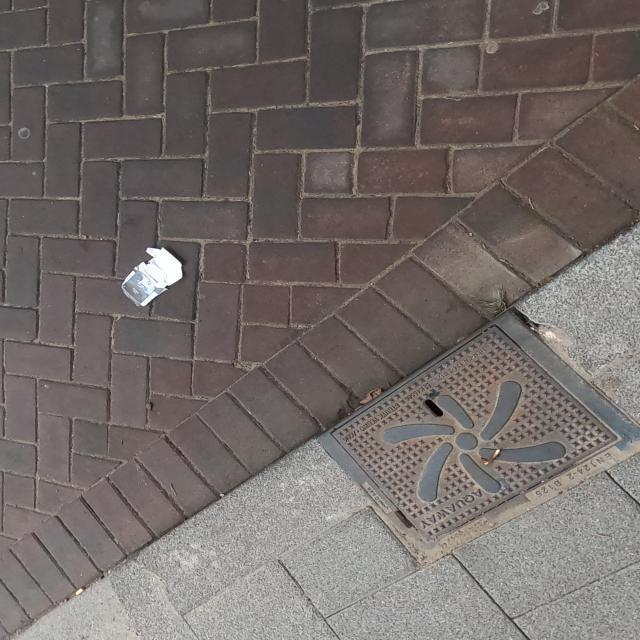Paper: (120, 245, 185, 309)
